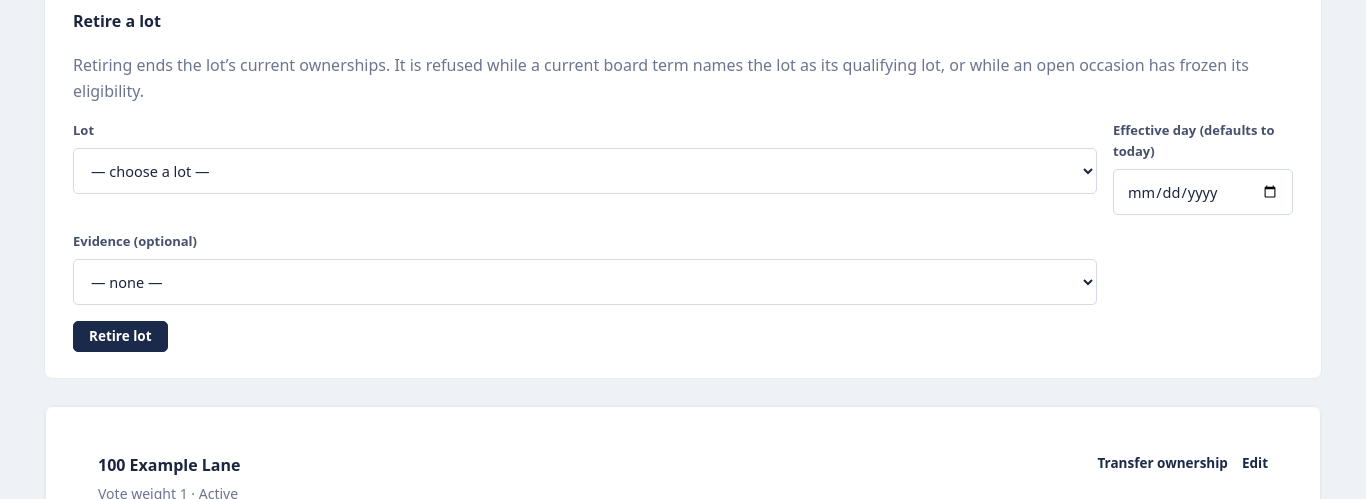
shows a stale-preview error and requires another review before retrying
The image size is (1366, 499).
(page scrolled)
What coordinates should you click on to do the following:
click the button with aria-label "Transfer ownership: 100 Example Lane"
I would click on:
 (1163, 464)
Its box is [1098,453,1228,475].
(page scrolled)
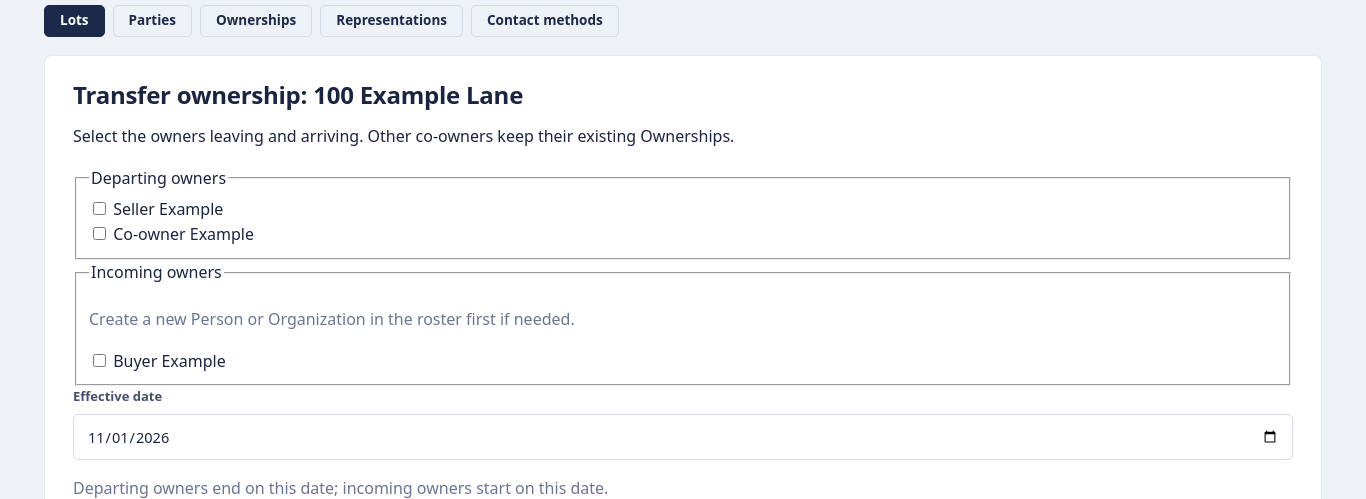
What coordinates should you click on to do the following:
click the checkbox labelled "Seller Example"
I would click on:
 (100, 208)
Its box is [93,202,106,215].
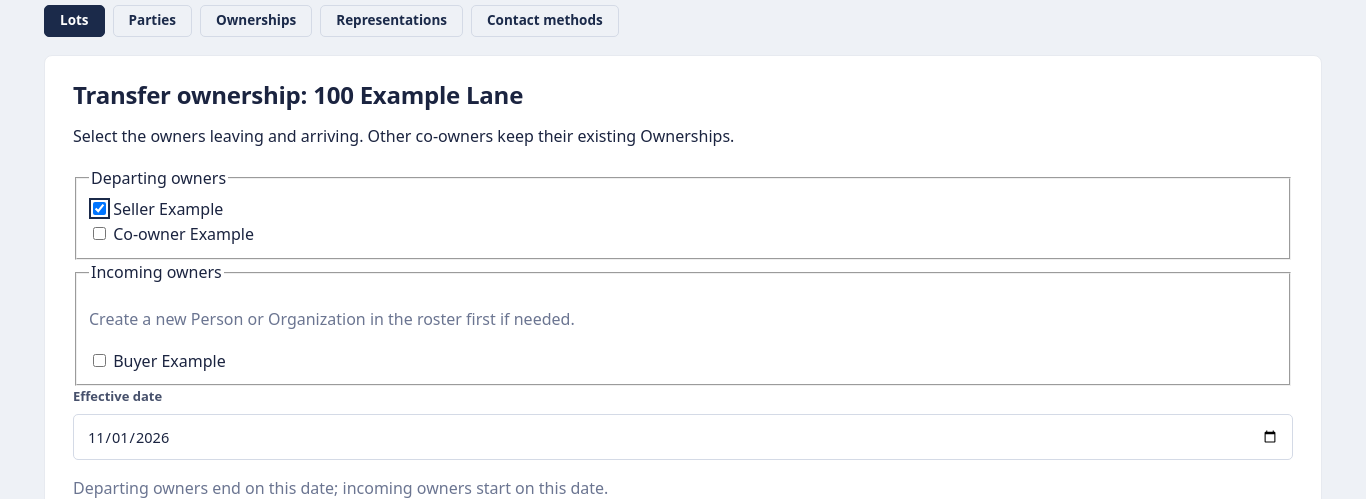
What coordinates should you click on to do the following:
click the checkbox labelled "Buyer Example"
I would click on:
 (100, 360)
Its box is [93,354,106,367].
(page scrolled)
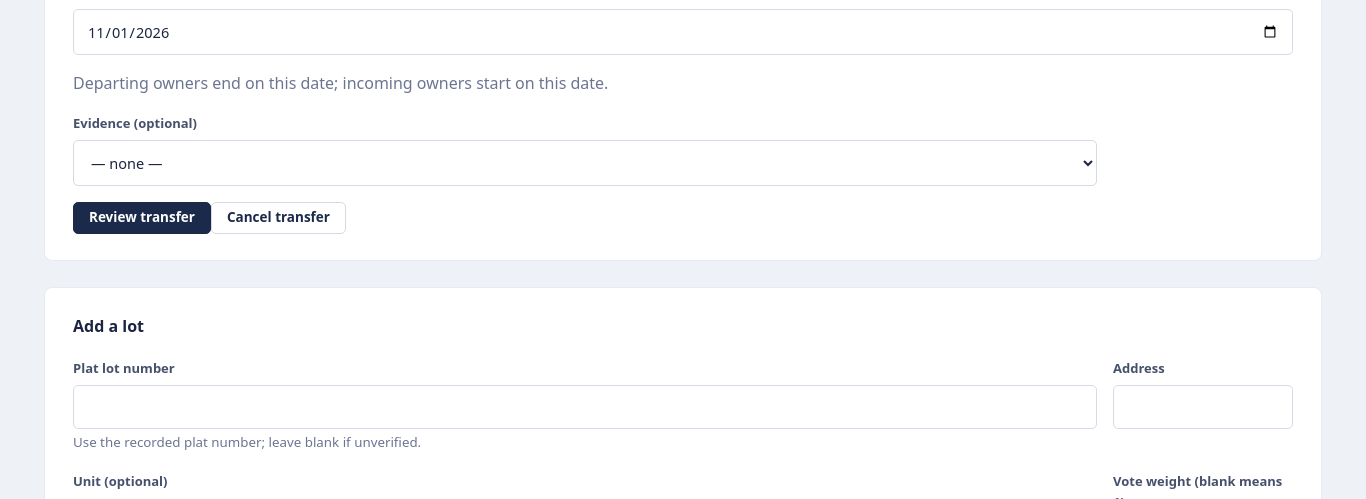
What coordinates should you click on to do the following:
click the button "Review transfer"
I would click on:
 (142, 218)
Its box is [73,202,211,234].
(page scrolled)
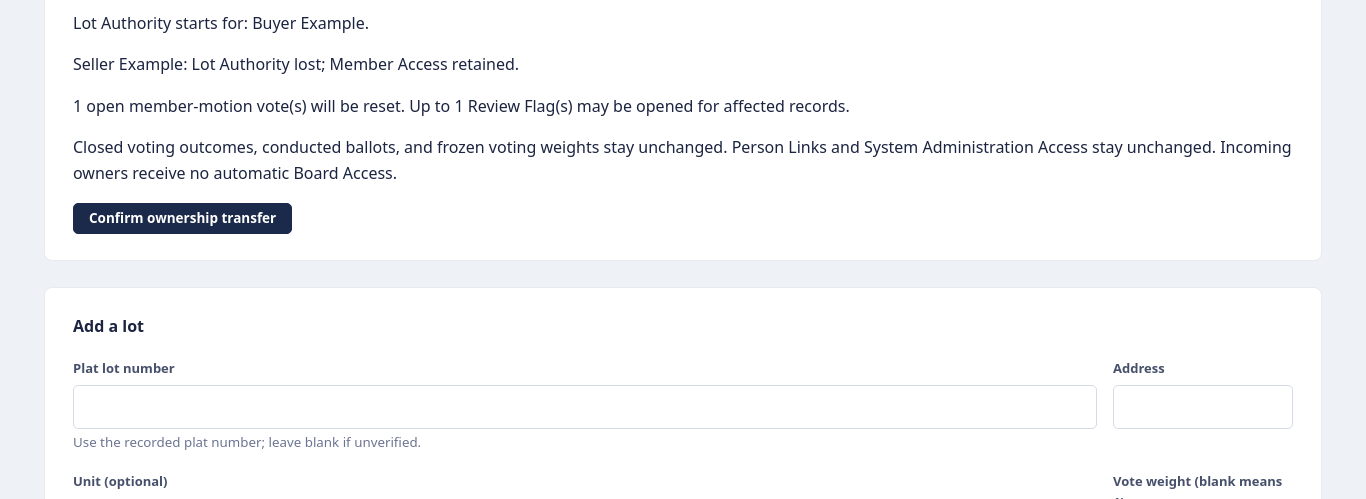
What coordinates should you click on to do the following:
click the button "Confirm ownership transfer"
I would click on:
 (183, 218)
Its box is [73,202,292,234].
(page scrolled)
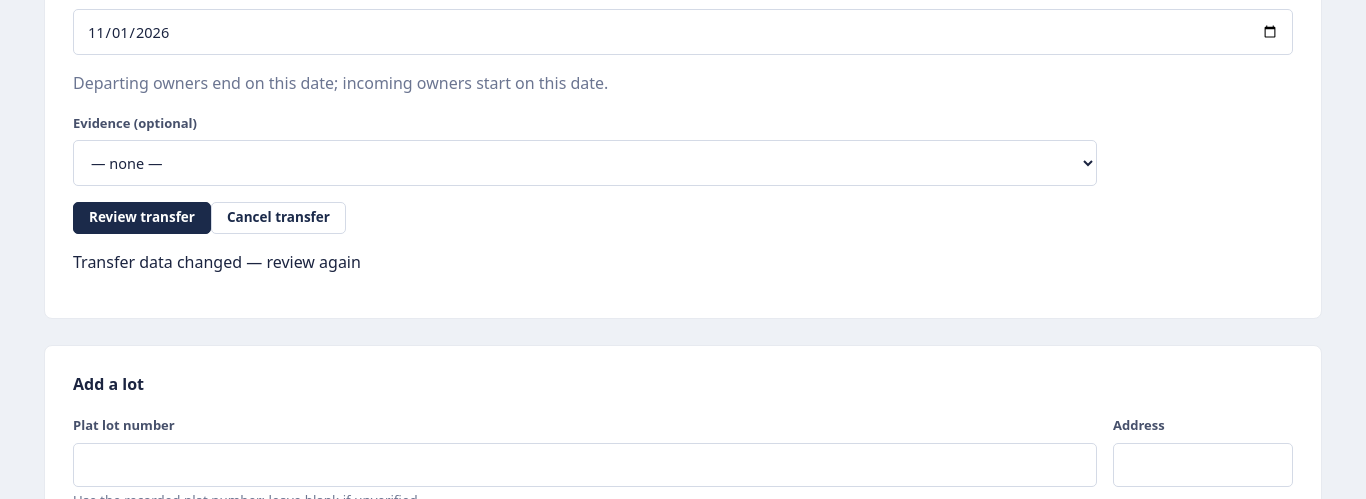
Now the button "Review transfer" is enabled, box [73,202,211,234]
Now the message shows "Transfer data changed", box [73,251,361,273]
Now the button "Confirm ownership transfer" is gone
